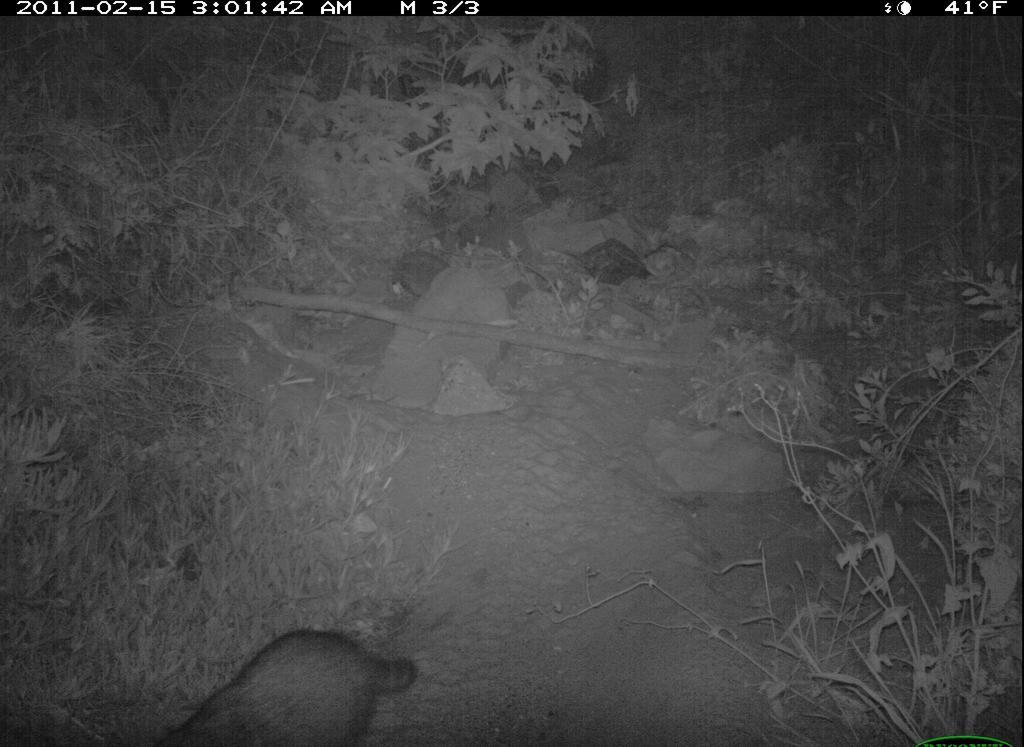raccoon: (149, 624, 425, 747)
